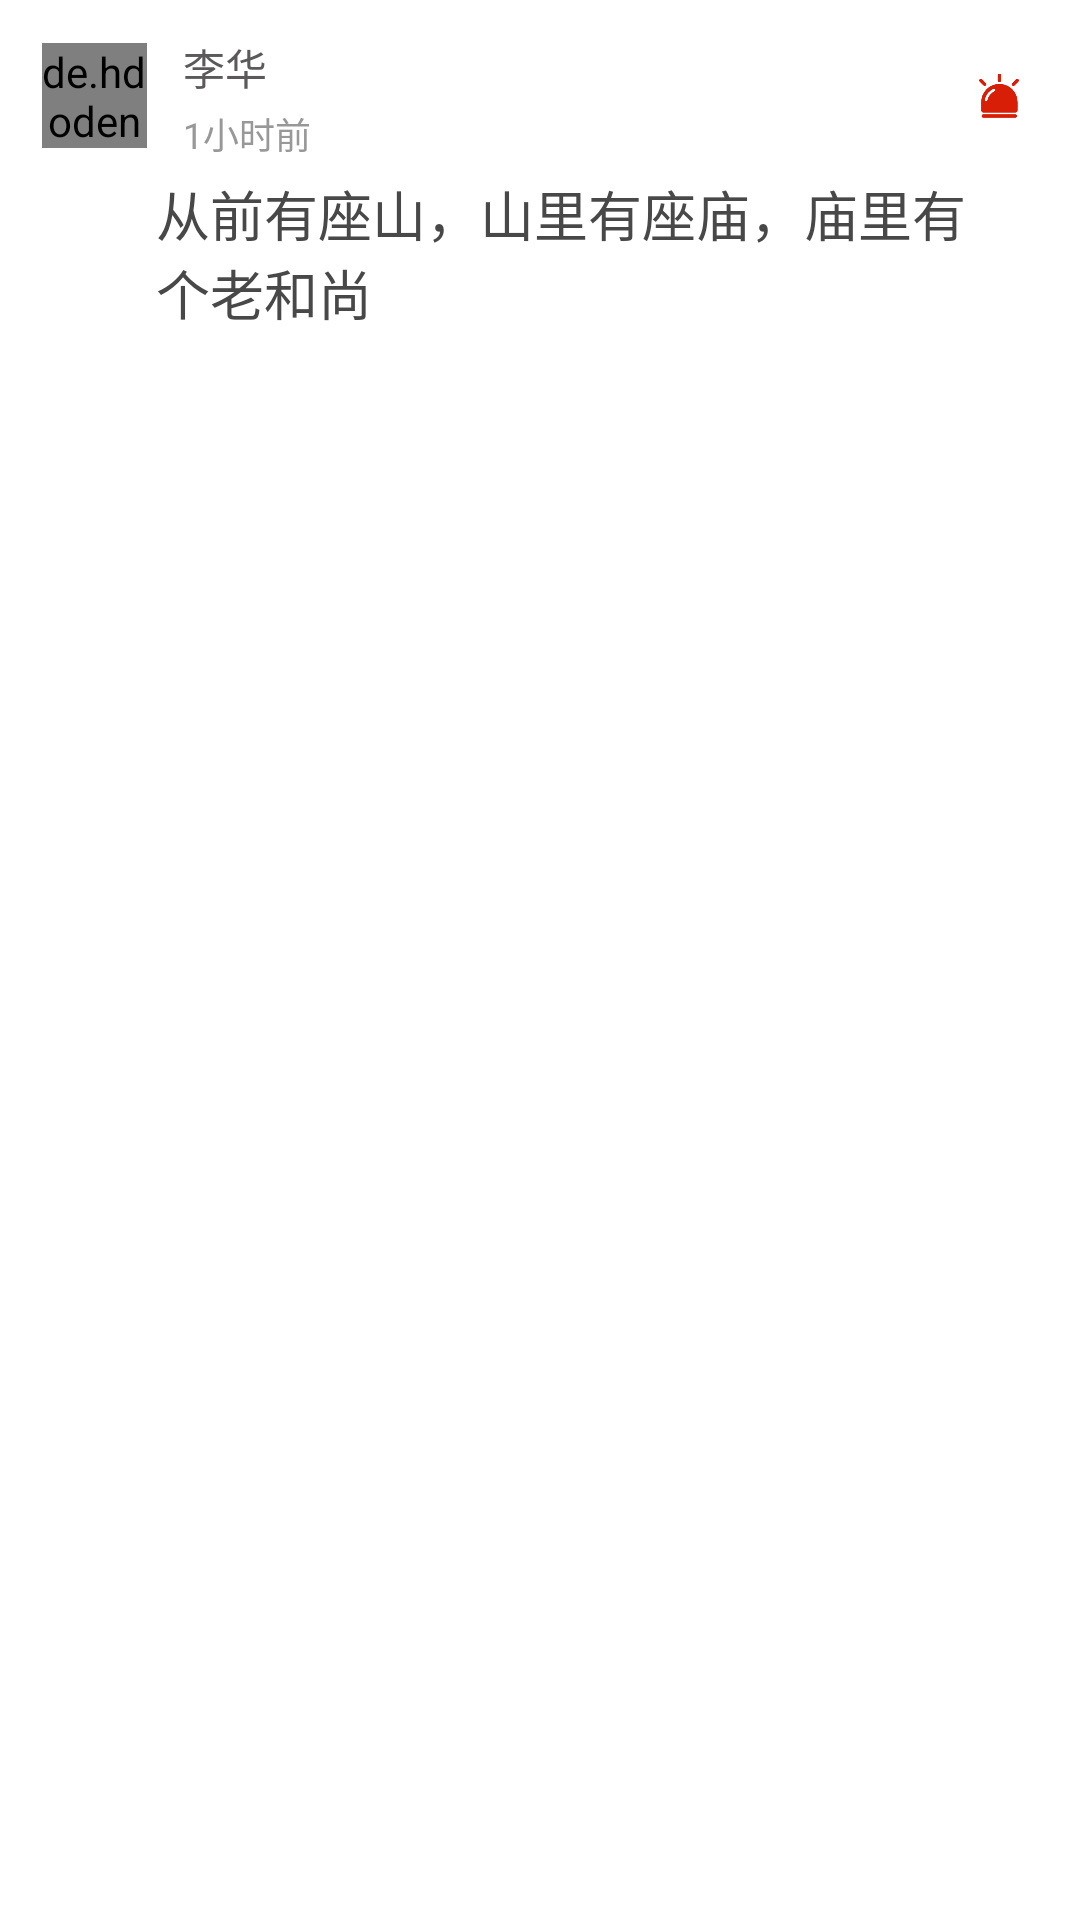

Locate icon controls on the screen. Image size 1080*1920, boxes as (x1, y1, x2, y2).
report: (979, 74, 1019, 118)
